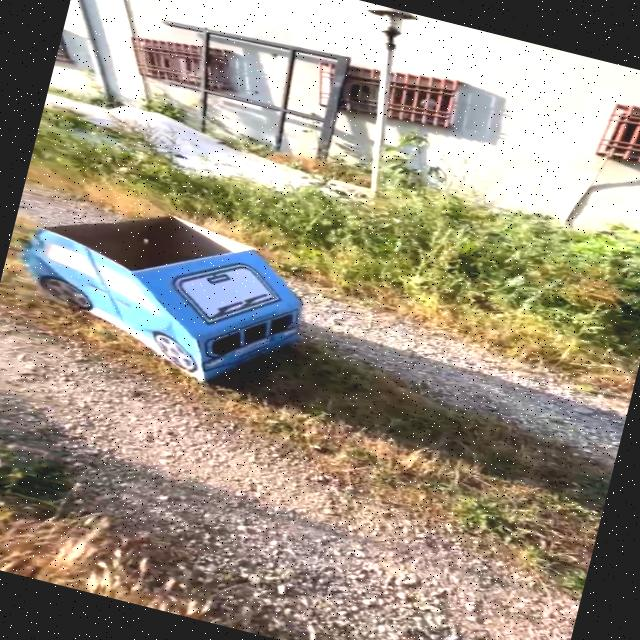blue_car: (0, 163, 381, 426)
